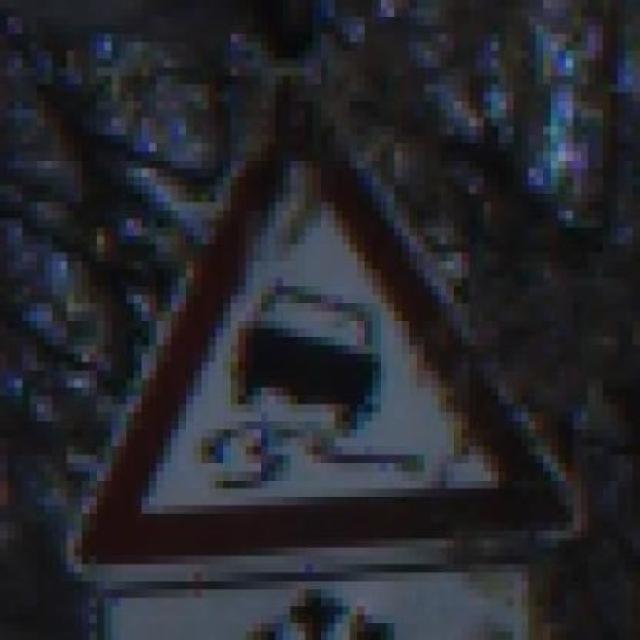Slippery Road Ahead: (59, 76, 596, 582)
